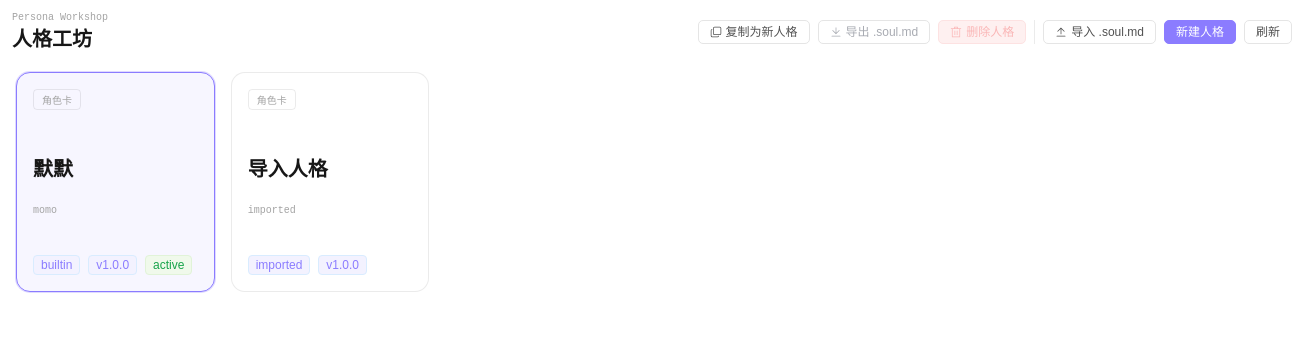
it: PersonaWorkshopPanel › deletes an imported persona after confirmation and returns to the active persona
Click the button "角色卡 导入人格 imported imported v1.0.0" at {"x": 330, "y": 182}, box [231, 72, 429, 292]
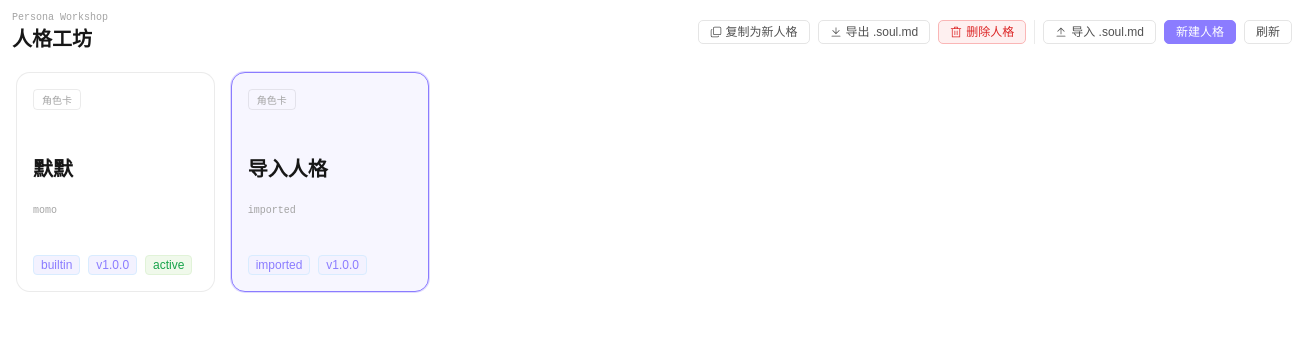
Click the button "删除人格" at {"x": 982, "y": 32}, box [938, 20, 1026, 44]
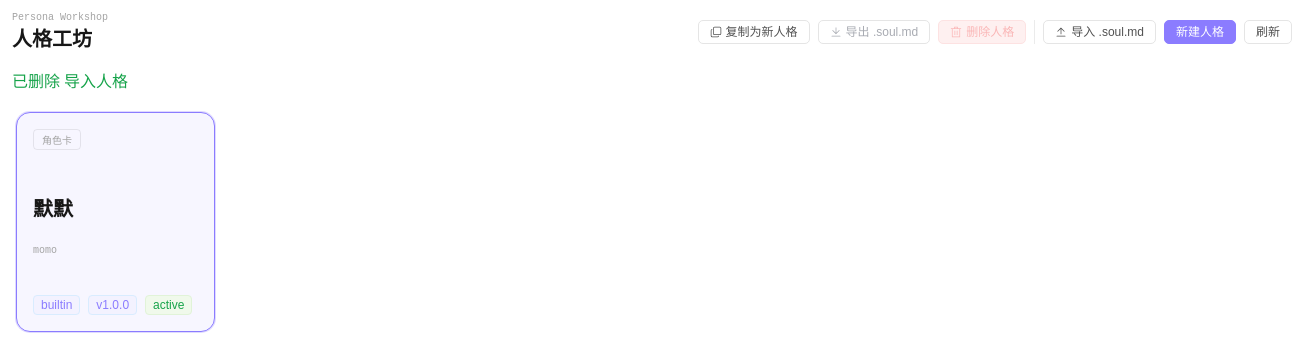
Result: the text "已删除 导入人格" is shown at [12, 73, 128, 90]
